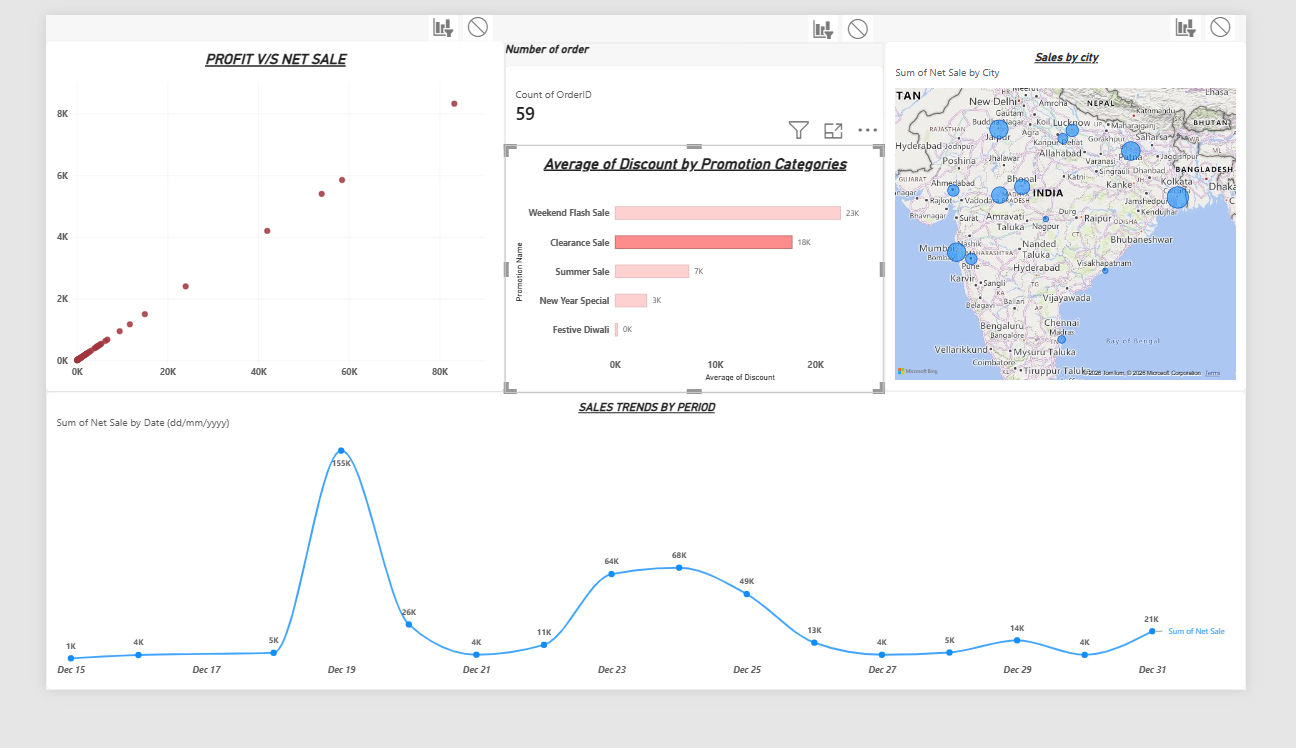

The page's visual inventory and layout, read from the dashboard file:
{"tool":"powerbi","page":{"name":"Overview","canvas":[1920,1080],"ordinal":1},"visuals":[{"type":"lineChart","title":"SALES TRENDS BY PERIOD","fields":{"Category":["Fact table.Date (dd/mm/yyyy).Variation.Date Hierarchy.Year"],"Y":["Sum(Fact table.Net Sale)"]},"box":[0,602.5,1920,477.5],"z":0},{"type":"scatterChart","title":"PROFIT V/S NET SALE ","fields":{"X":["Fact table.Net Sale"],"Y":["Fact table.Profit"]},"box":[0,42.5,732.5,560],"z":1000},{"type":"map","title":"Sales by city","fields":{"Category":["Dim Customers.City"],"Size":["Sum(Fact table.Net Sale)"]},"box":[1341.3,41.9,579.1,559.9],"z":2000},{"type":"cardVisual","title":"Number of order","fields":{"Data":["Count(Fact table.OrderID)"]},"box":[733,43,607,165],"z":3000},{"type":"barChart","title":"Average of Discount by Promotion  Categories ","fields":{"Category":["Dim Promotion.Promotion Name"],"Y":["Avg(Fact table.Discount)"]},"box":[733,208,607,395],"z":4000}]}

Visuals, with their boxes in screenshot pixels (x1, y1, x2, y2), scaled from the page's 1920x1080 canvas onto the 1296x748 screenshot:
"SALES TRENDS BY PERIOD" lineChart: {"left": 0, "top": 417, "right": 1295, "bottom": 747}
"PROFIT V/S NET SALE " scatterChart: {"left": 0, "top": 29, "right": 494, "bottom": 417}
"Sales by city" map: {"left": 905, "top": 29, "right": 1295, "bottom": 417}
"Number of order" cardVisual: {"left": 495, "top": 30, "right": 905, "bottom": 144}
"Average of Discount by Promotion  Categories " barChart: {"left": 495, "top": 144, "right": 905, "bottom": 418}
